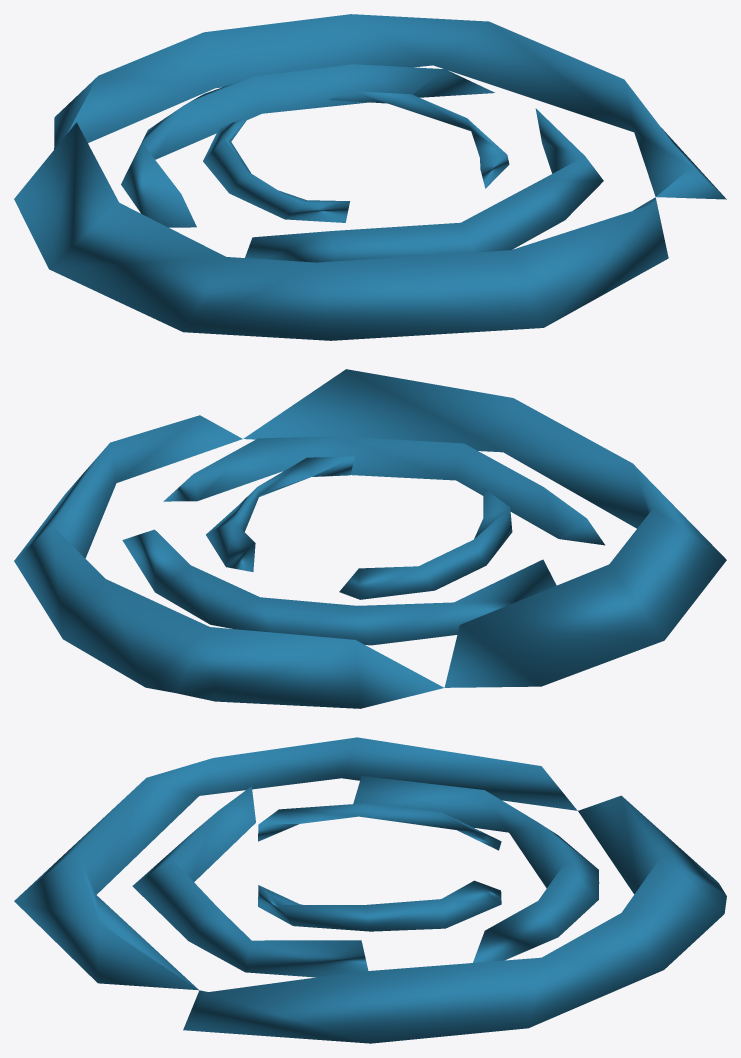
The model's file is FklrCrown_Ground.fbx.
3 views of the same model, one above another, from view 1: azimuth 30°, elevation 25°; view 2: azimuth 150°, elevation 25°; view 3: azimuth 270°, elevation 25° (orthographic). The views are drawn at different scales.
Visible parts, largest first — view 1: Headpiece.002; view 2: Headpiece.002; view 3: Headpiece.002.
Boxes of the visible parts, box(x1,y1,x2,y2) form: Headpiece.002: box(14, 14, 726, 340); Headpiece.002: box(14, 369, 726, 708); Headpiece.002: box(14, 737, 726, 1043).
Size of the model in its own units: 0.2642 by 0.0224 by 0.247.
